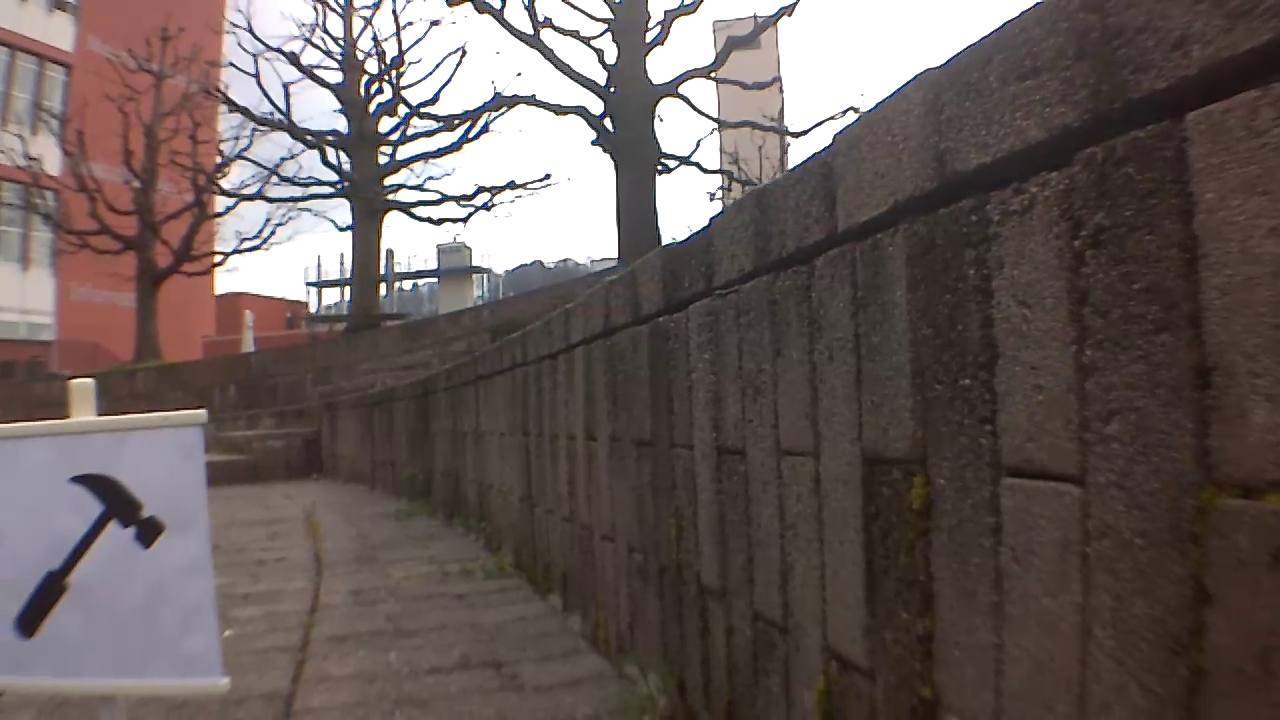hammer: (9, 468, 164, 638)
